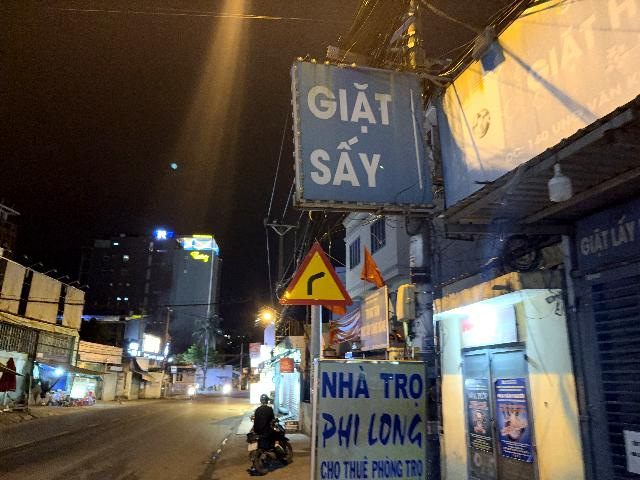cho-ngoat-nguy-hiem-ben-phai: (279, 241, 354, 307)
